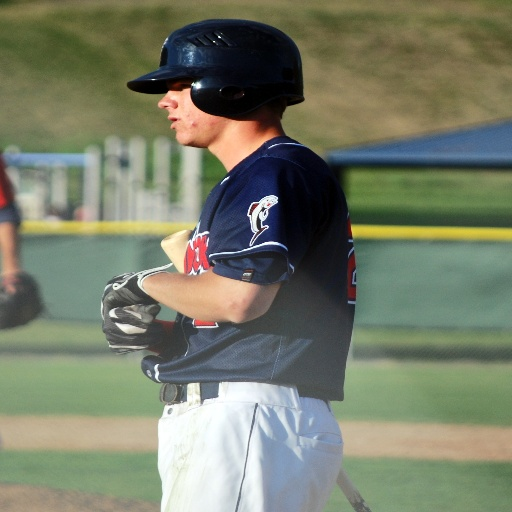hand: (99, 271, 158, 355), (0, 266, 19, 294)
